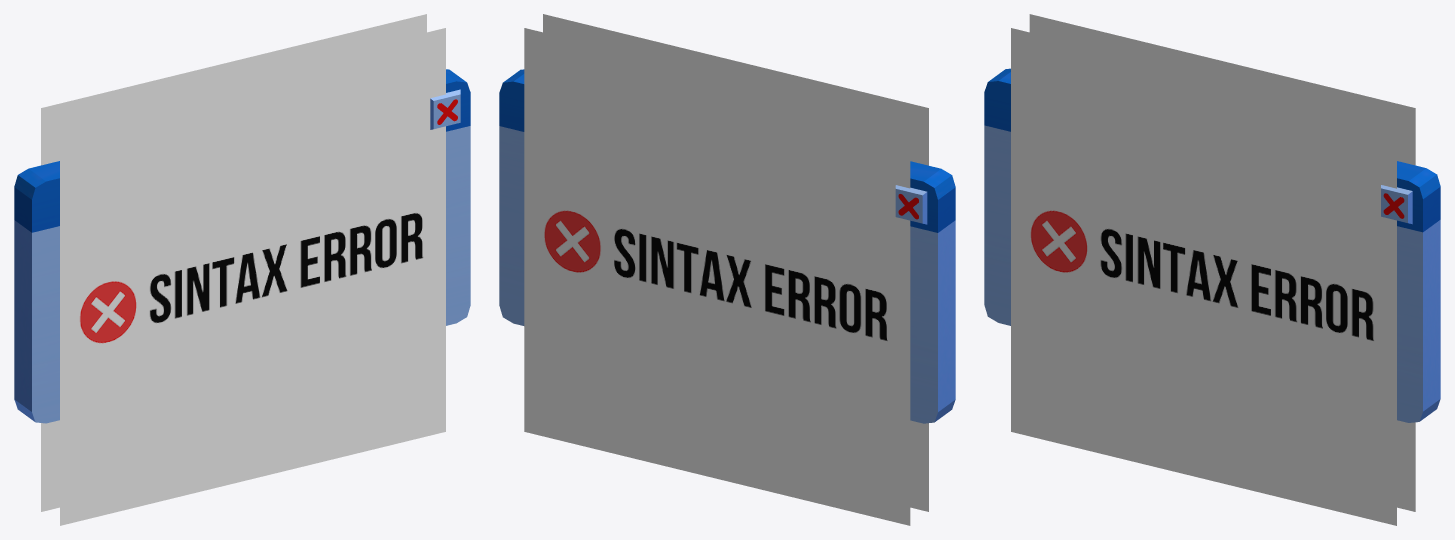
The model's file is SM_SyntaxWall001.fbx.
3 views of the same model, side by side, from view 1: azimuth 30°, elevation 25°; view 2: azimuth 150°, elevation 25°; view 3: azimuth 330°, elevation 25° (orthographic).
Parts seen in each view (by area): view 1: SM_SyntaxWall001; view 2: SM_SyntaxWall001; view 3: SM_SyntaxWall001.
Part boxes in pixels (bbox=[...]): SM_SyntaxWall001: bbox=[14, 14, 470, 525]; SM_SyntaxWall001: bbox=[499, 14, 955, 525]; SM_SyntaxWall001: bbox=[984, 14, 1440, 525].
Size of the model in its own units: 83.64 by 73.58 by 7.78.
